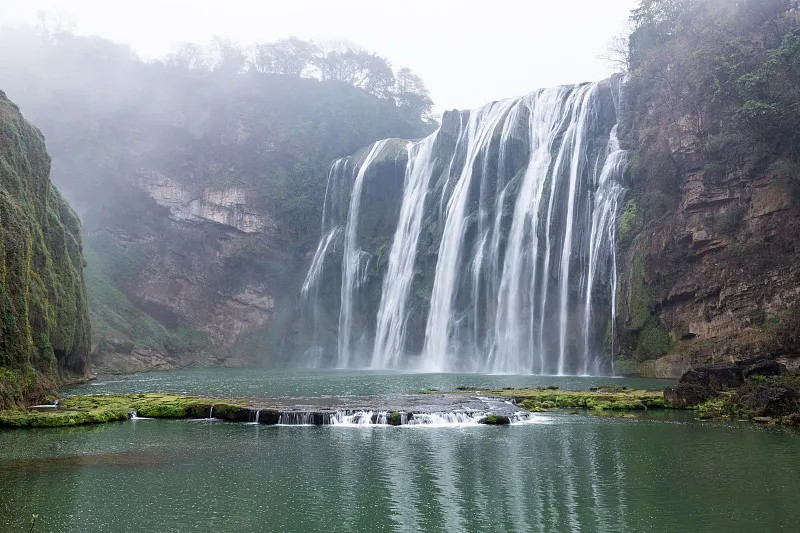Huangguoshu: (301, 77, 629, 377)
